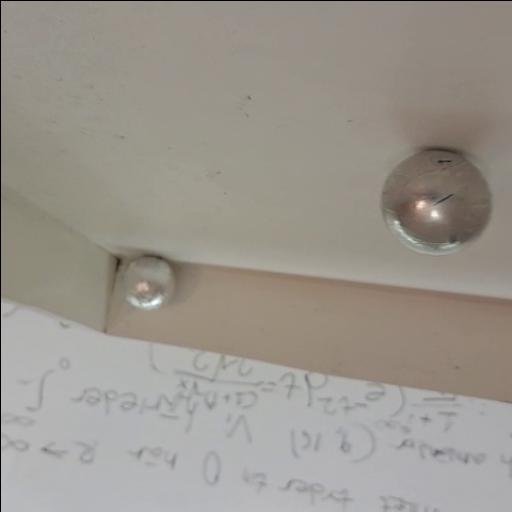alive: (379, 148, 495, 252), (118, 254, 174, 312)
